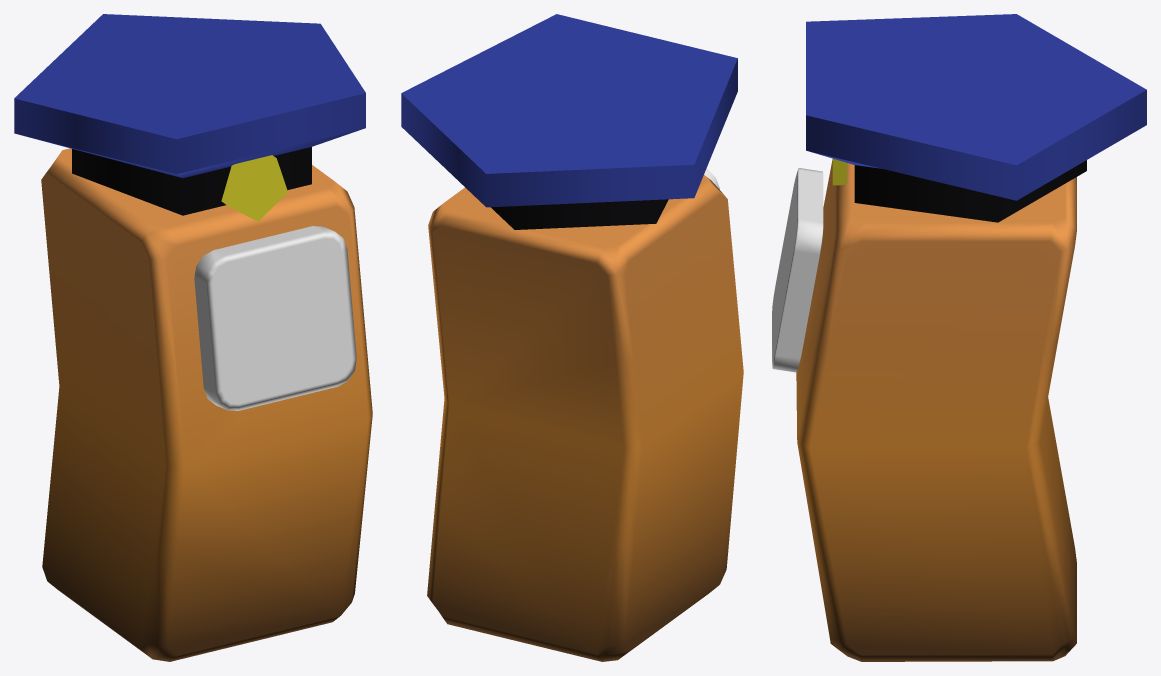
The model's file is FingerV4.fbx.
3 views of the same model, side by side, from view 1: azimuth 30°, elevation 25°; view 2: azimuth 150°, elevation 25°; view 3: azimuth 270°, elevation 25° (orthographic). The views are drawn at different scales.
Parts seen in each view (by area): view 1: Cube.019, Cylinder.021, Cube.020; view 2: Cube.019, Cylinder.021; view 3: Cube.019, Cylinder.021, Cube.020.
Boxes of the visible parts, box(x1,y1,x2,y2) form: Cube.019: box(41, 148, 372, 661); Cylinder.021: box(14, 14, 365, 221); Cube.020: box(194, 226, 356, 410); Cube.019: box(427, 175, 743, 661); Cylinder.021: box(401, 14, 737, 229); Cube.019: box(796, 159, 1076, 661); Cylinder.021: box(806, 14, 1146, 222); Cube.020: box(772, 168, 823, 372).
Size of the model in its own units: 43.12 by 41.23 by 69.53.
